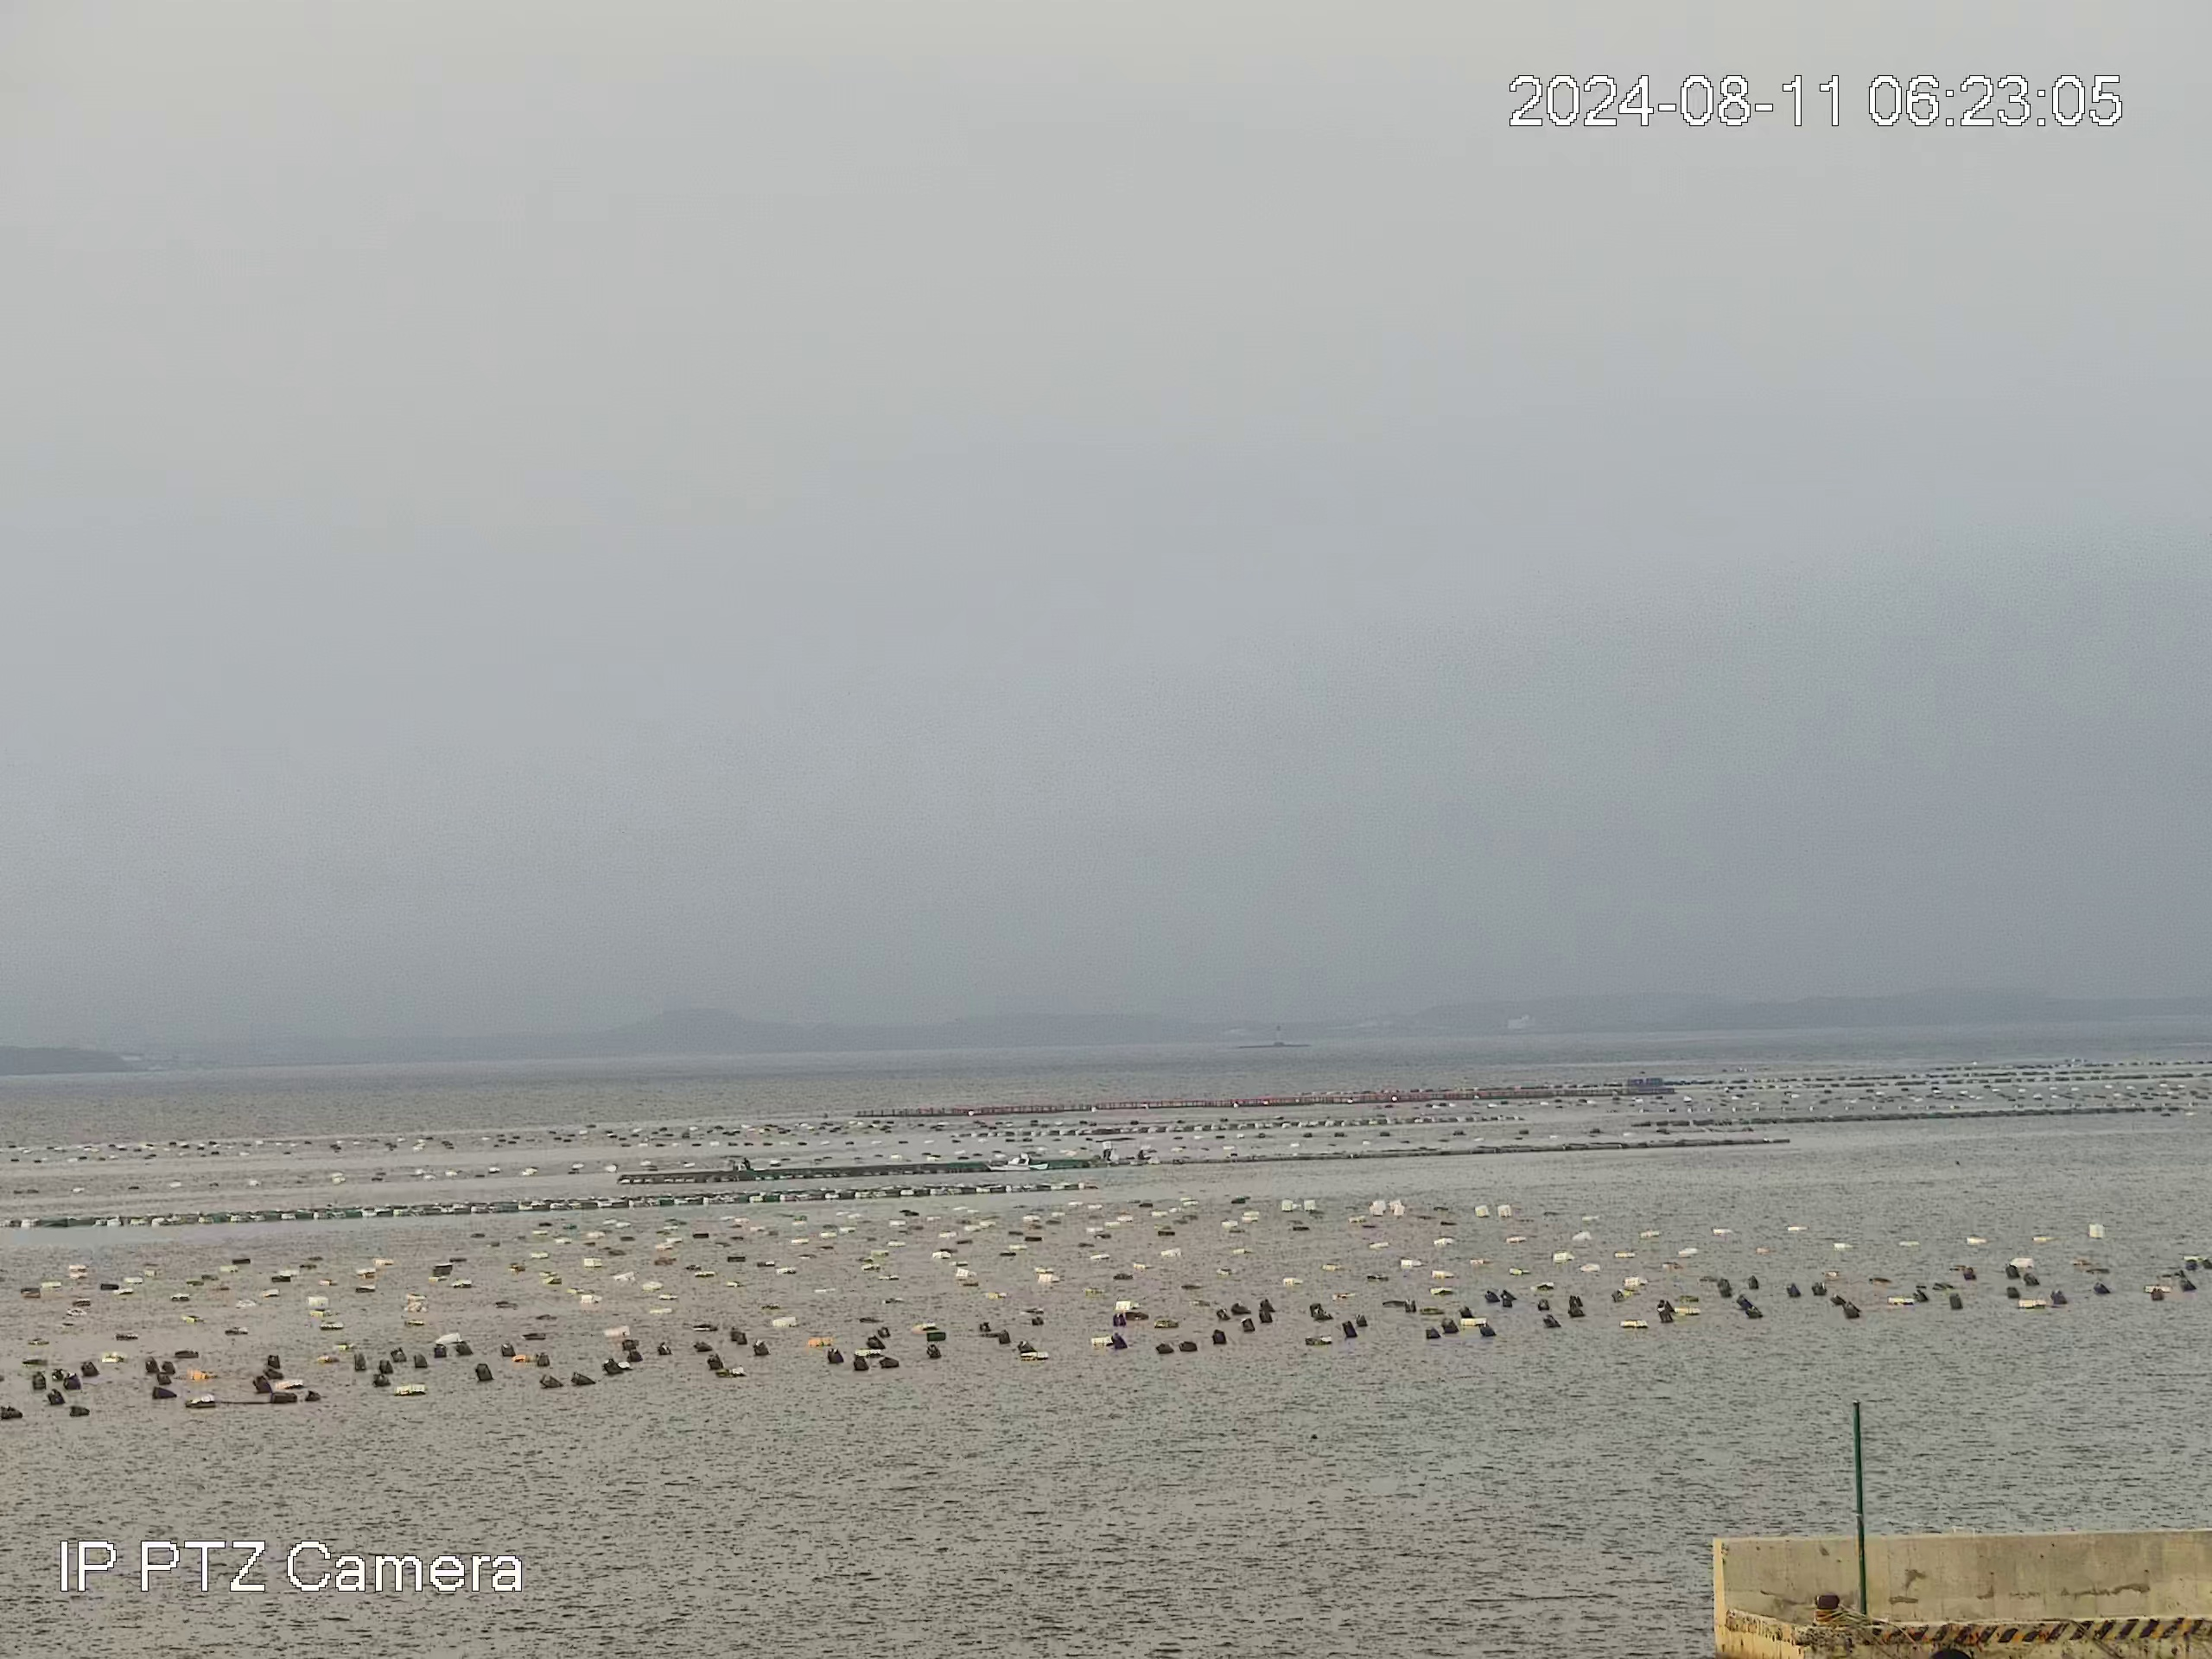boat: (984, 1150, 1050, 1173)
